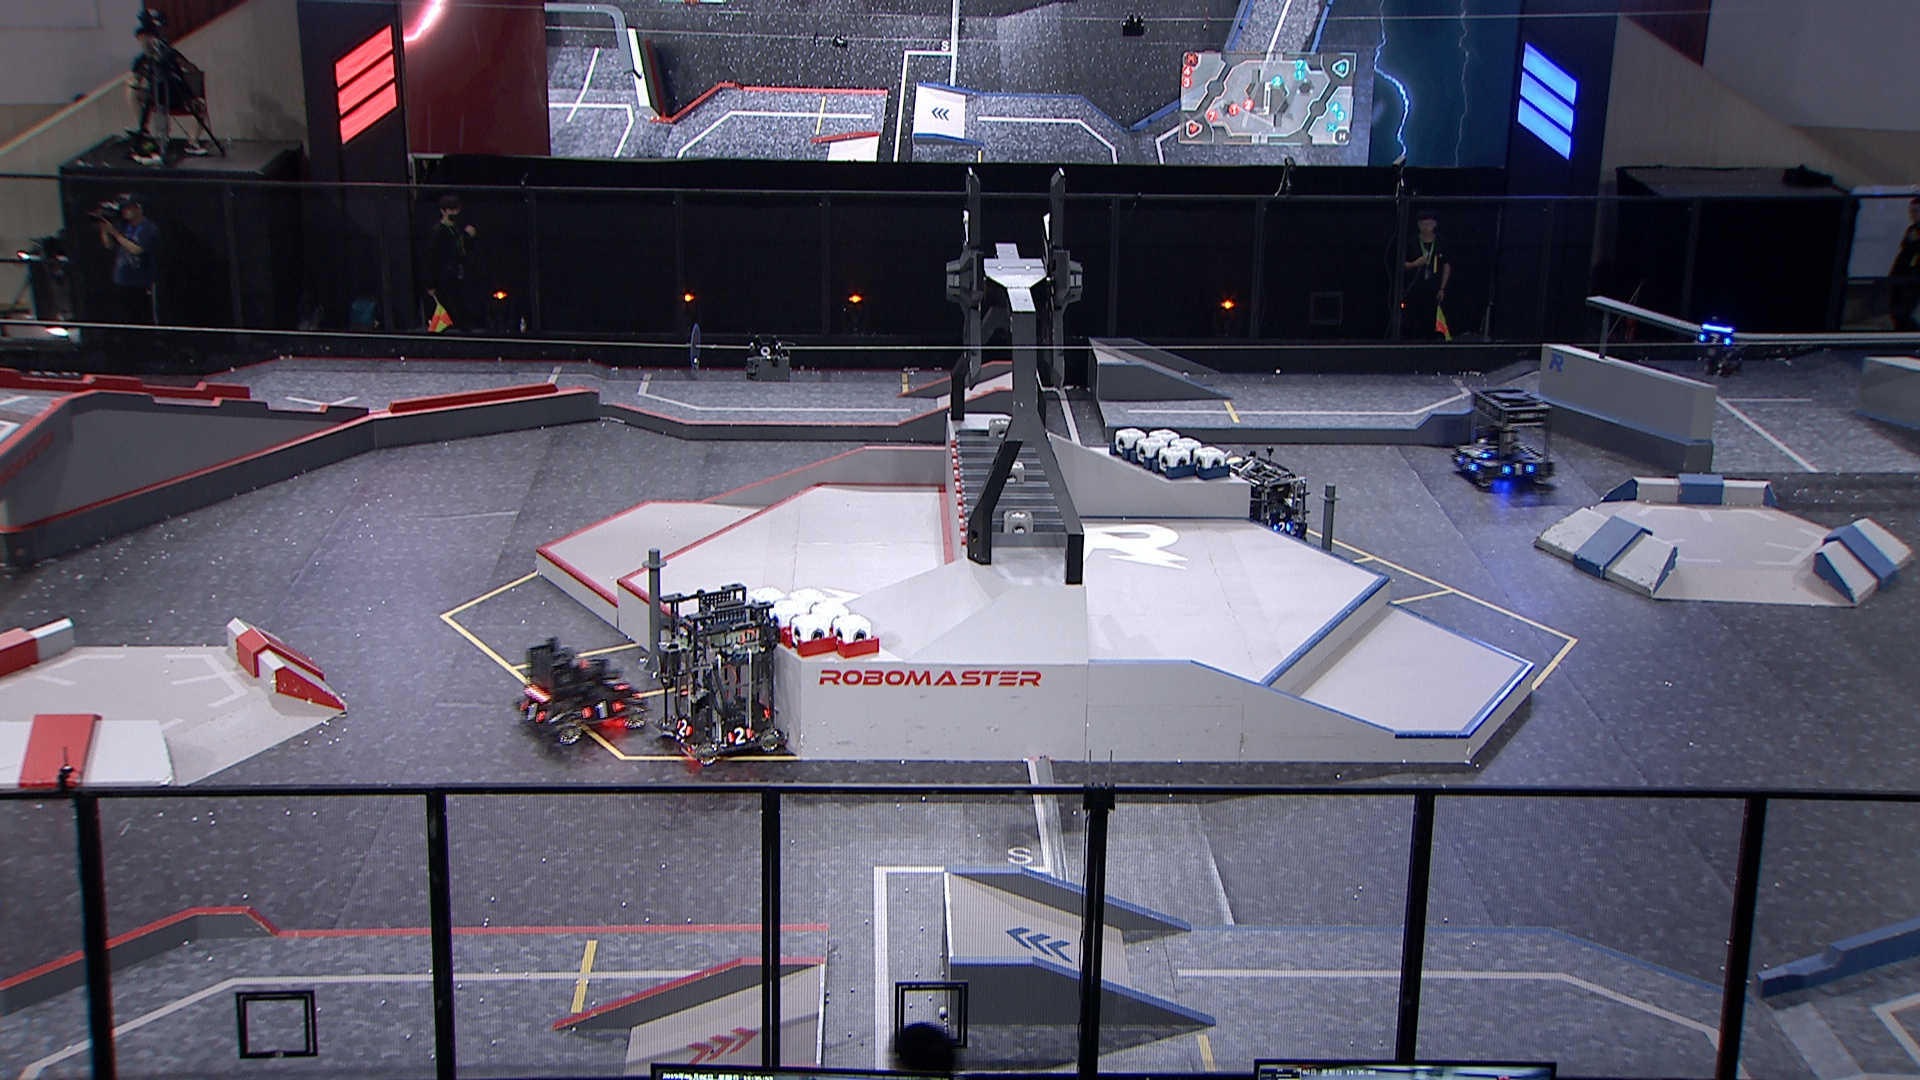armor: (579, 699, 622, 721), (518, 702, 545, 727), (1501, 463, 1536, 479), (1698, 332, 1733, 348), (727, 725, 752, 745), (1466, 444, 1493, 462), (675, 717, 694, 737), (1271, 522, 1294, 537), (1456, 458, 1477, 472), (607, 676, 629, 688)
car: (647, 585, 785, 764), (512, 632, 655, 741), (1447, 385, 1560, 489), (1211, 452, 1311, 553)
watcher: (1689, 316, 1749, 380)
